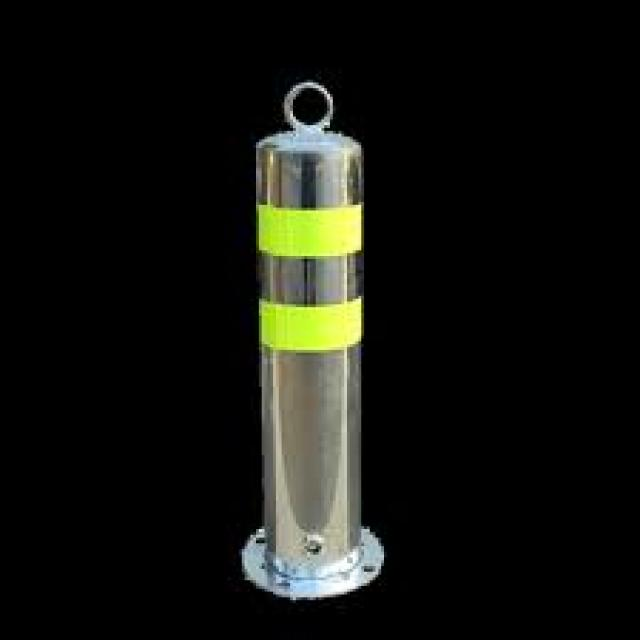bollard: (228, 66, 400, 606)
